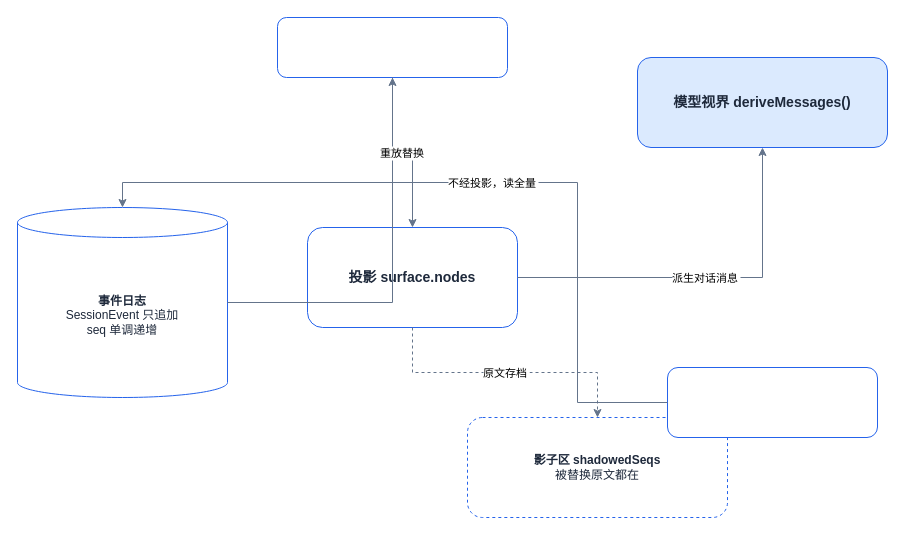
The diagram is 905 pixels wide and 535 high, and some of its shapes have lost their labels. The shapes that lost their labels are listed below. From the top down, each one's centre as x and y in pixels, then its label:
At (392,47): "surfaceOp replace".
At (772,402): "UI 完整历史".
